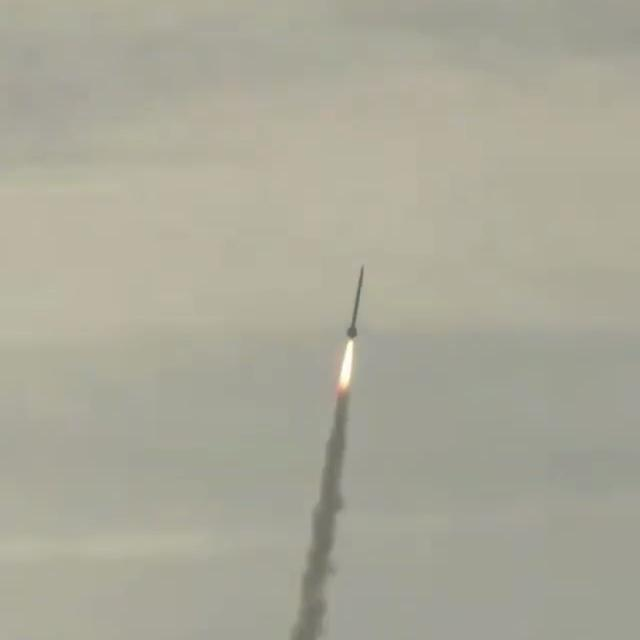smoke_trail_with_rocket: (290, 266, 364, 640)
